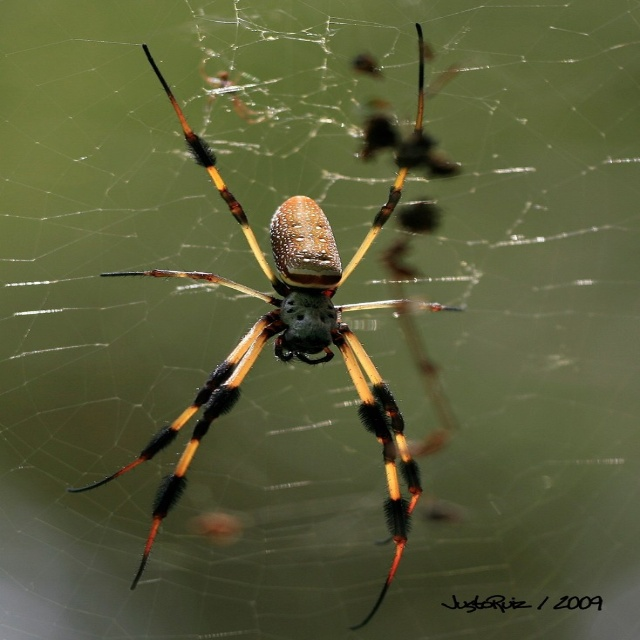Spider: (67, 23, 464, 631)
